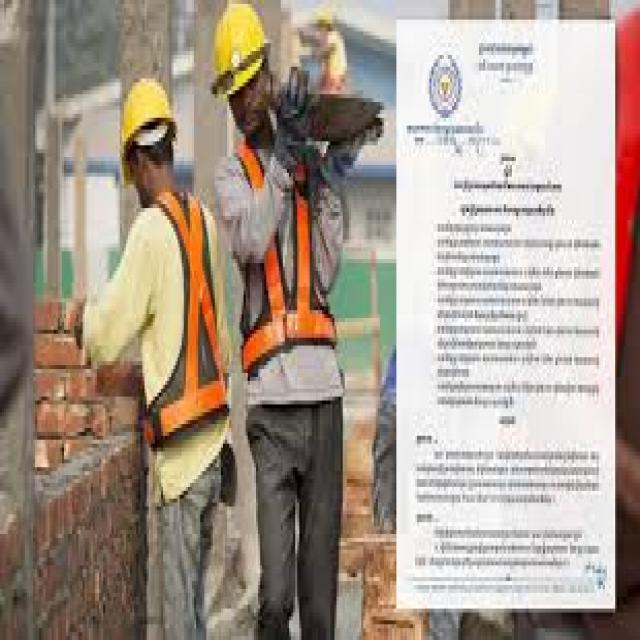reflective_jacket: (219, 113, 347, 396), (113, 184, 229, 463)
safety_helmet: (109, 63, 185, 173), (202, 0, 278, 106)
